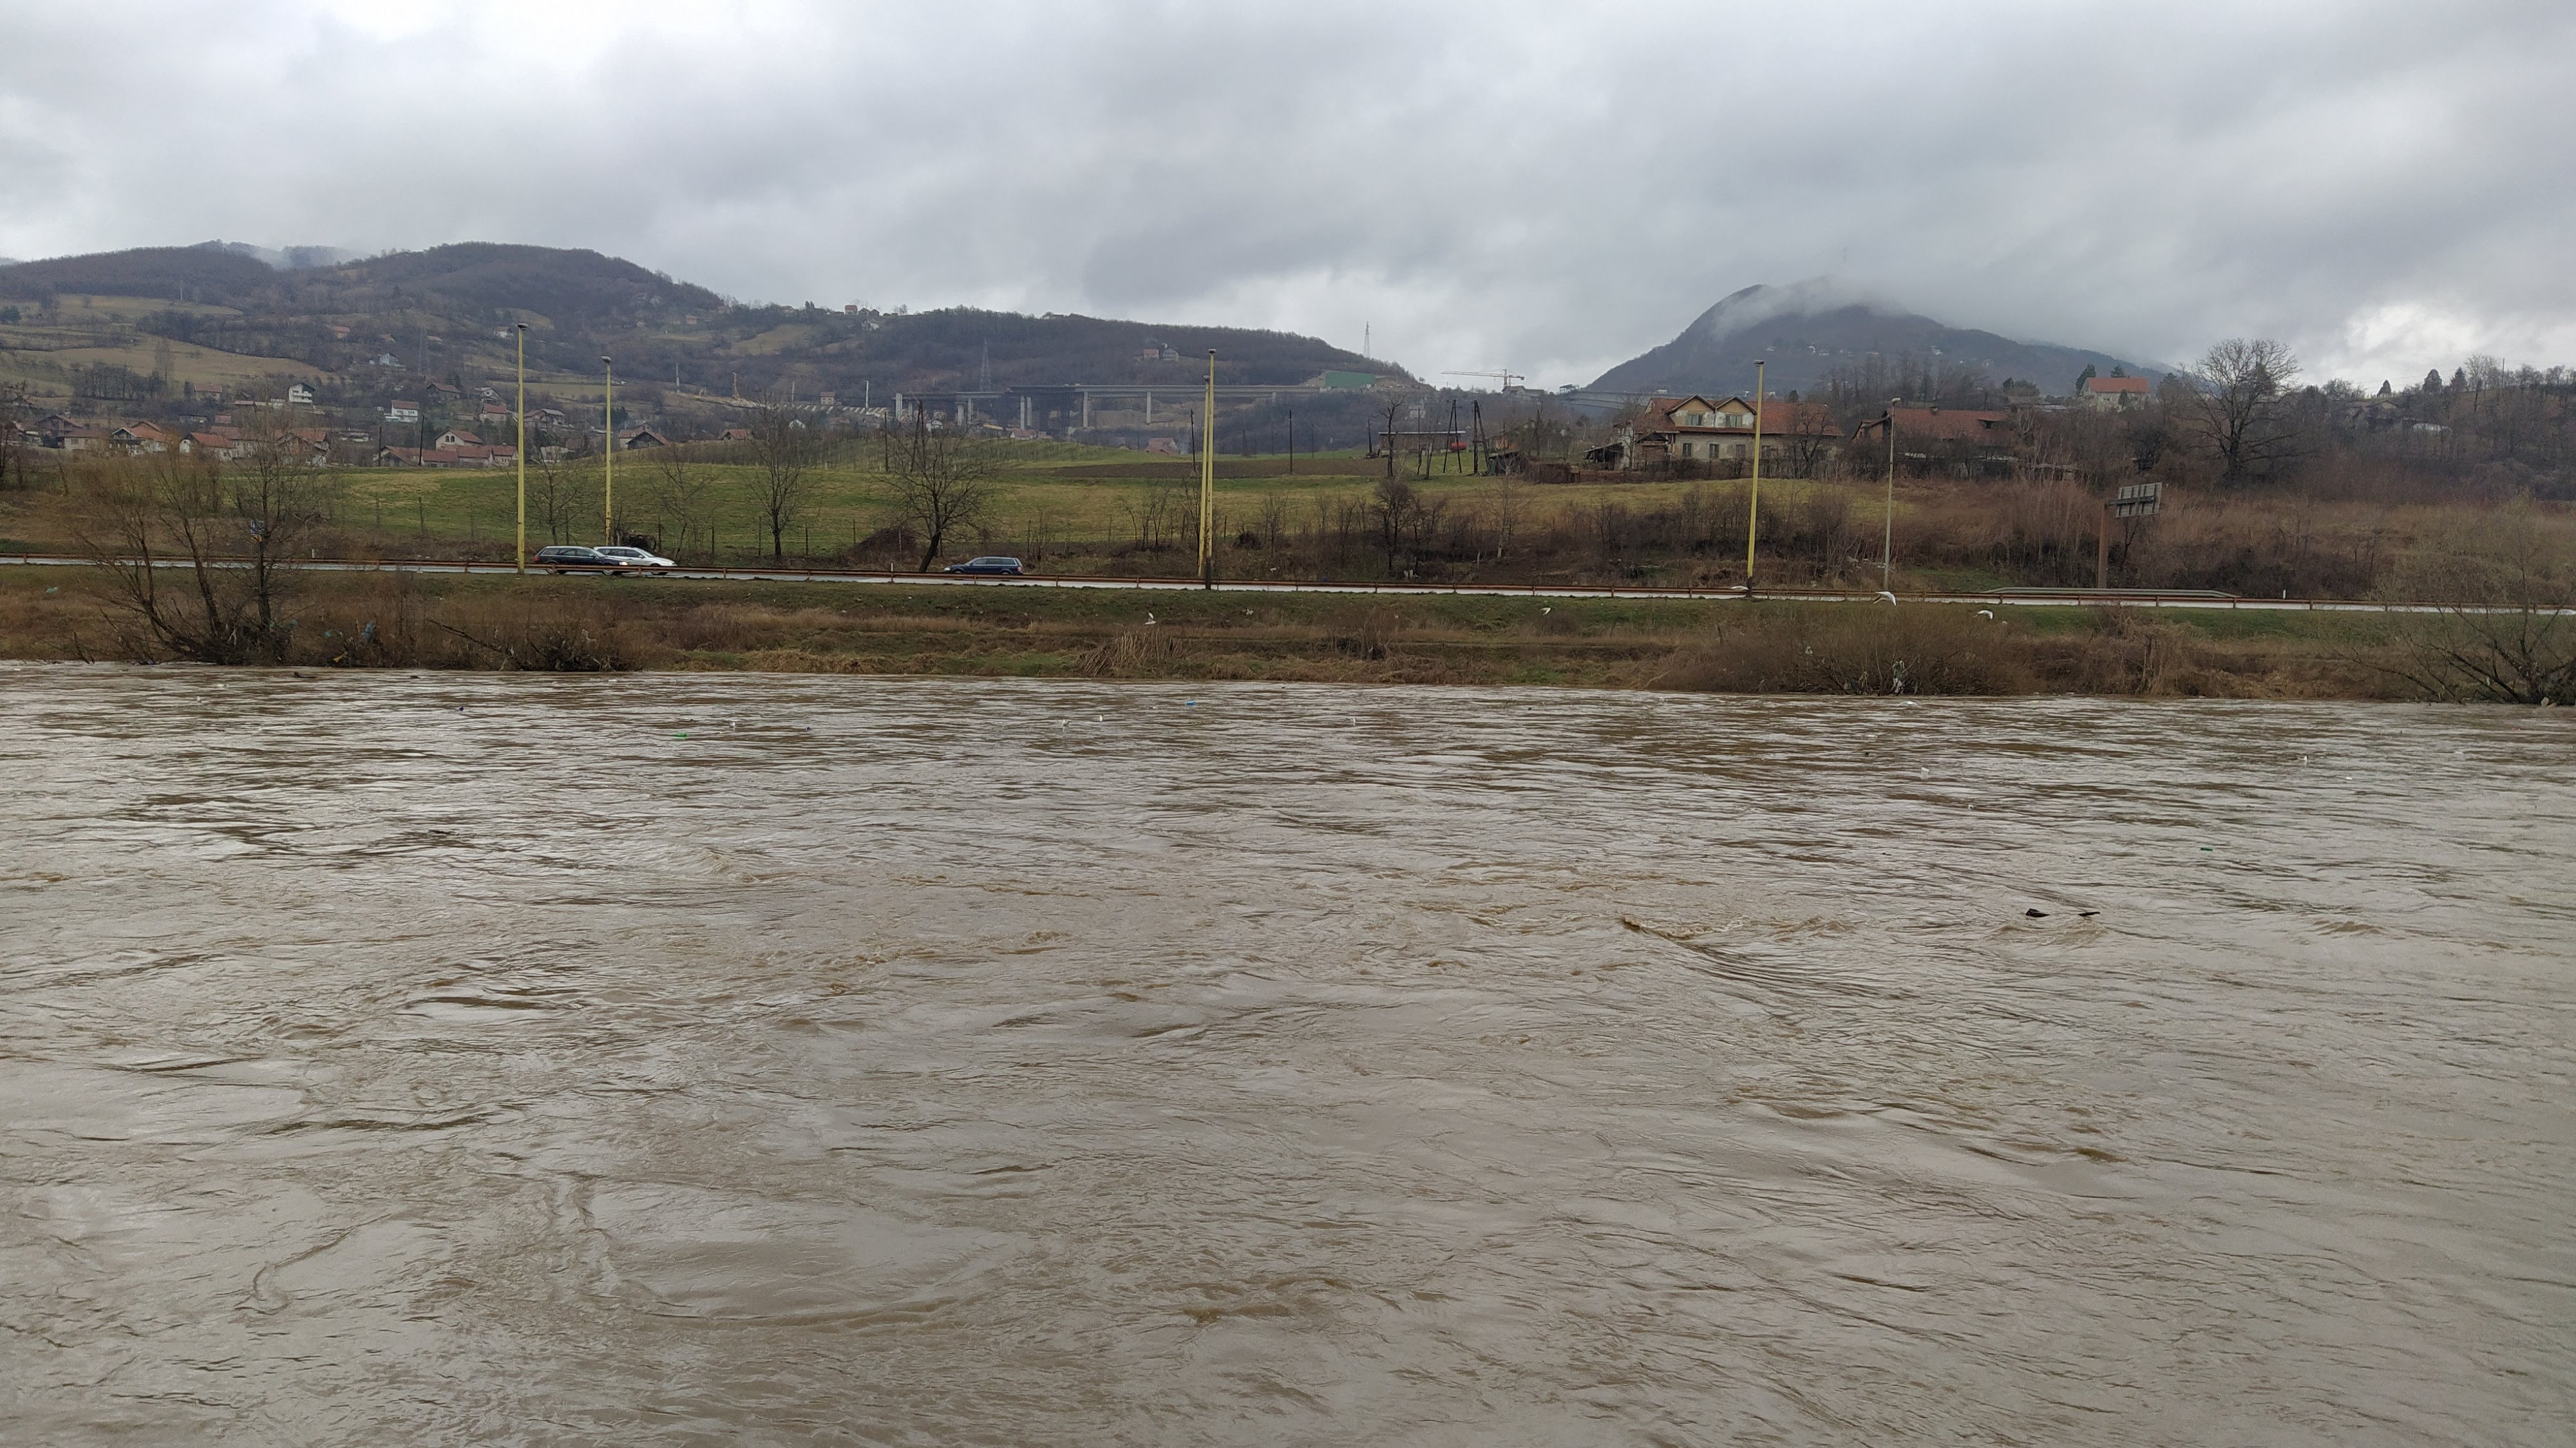Plastic Bottle: (2201, 846, 2212, 851), (676, 733, 685, 736), (1923, 766, 1928, 772), (1185, 701, 1192, 705), (1969, 804, 1973, 809), (2514, 728, 2519, 731)
